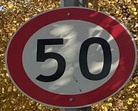50 Km Hiz Siniri: (10, 9, 135, 107)
